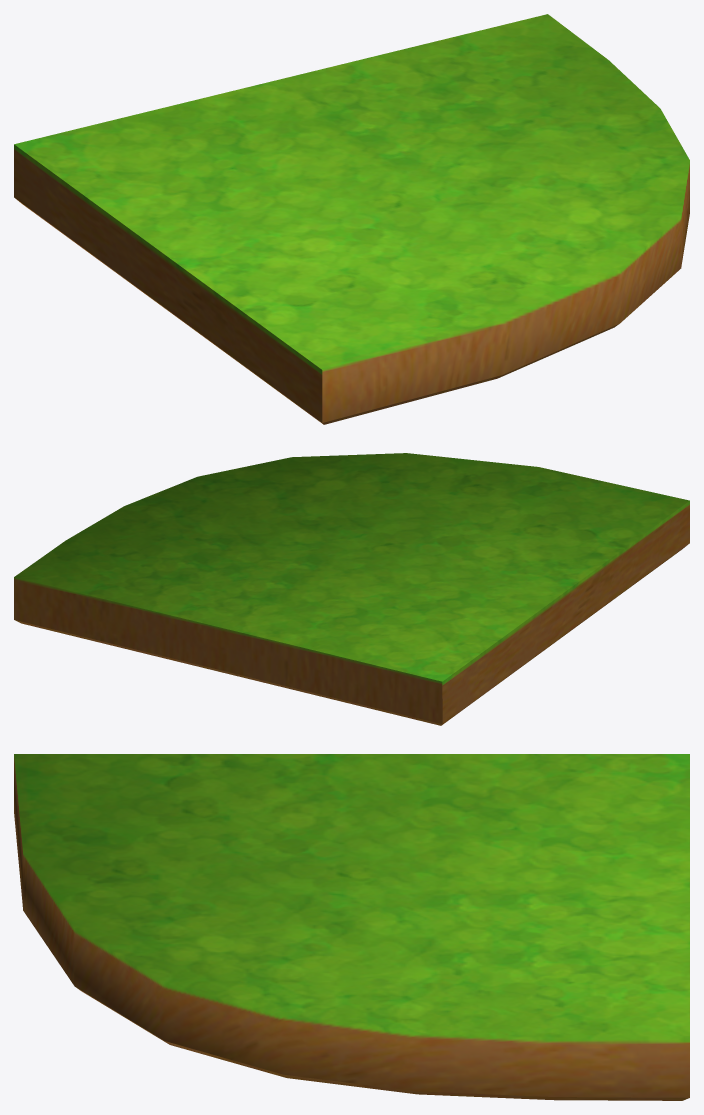
Rendered from CornerNoPostNoWall.fbx.
The picture shows the model from 3 angles, top to bottom: view 1: azimuth 30°, elevation 25°; view 2: azimuth 150°, elevation 25°; view 3: azimuth 270°, elevation 25°; orthographic projection. The views are drawn at different scales.
Visible parts, largest first — view 1: CornerNoPostNoWall; view 2: CornerNoPostNoWall; view 3: CornerNoPostNoWall.
Part boxes in pixels (x1,y1,x2,y2): CornerNoPostNoWall: [14, 14, 689, 424]; CornerNoPostNoWall: [14, 453, 689, 725]; CornerNoPostNoWall: [14, 754, 689, 1100].
Bounding box in the file's own units: 449 × 449 × 47.29.
